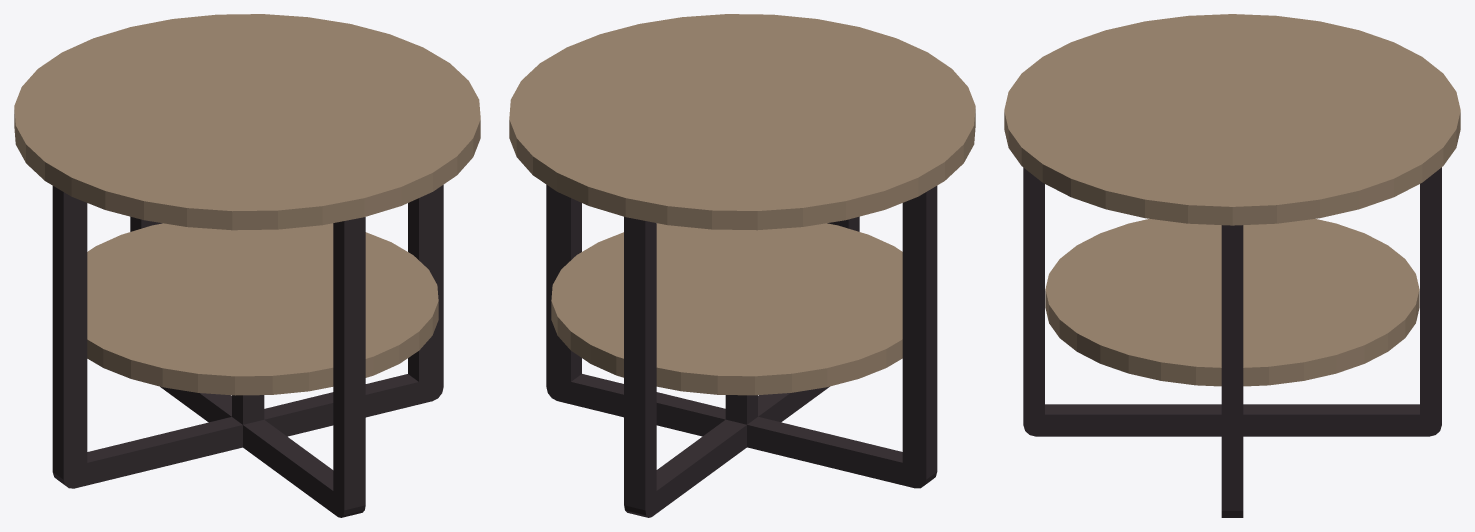
The model's file is SmallTable.fbx.
The picture shows the model from 3 angles, left to right: view 1: azimuth 30°, elevation 25°; view 2: azimuth 150°, elevation 25°; view 3: azimuth 270°, elevation 25°; orthographic projection. The views are drawn at different scales.
Parts seen in each view (by area): view 1: Circle, Circle.001, Cube; view 2: Circle, Circle.001, Cube; view 3: Circle, Circle.001, Cube.
Part boxes in pixels (box(x1,y1,x2,y2)): Circle: box(14, 14, 480, 230); Circle.001: box(87, 223, 438, 395); Cube: box(52, 185, 443, 517); Circle: box(509, 14, 975, 230); Circle.001: box(551, 223, 902, 395); Cube: box(546, 184, 937, 517); Circle: box(1004, 14, 1460, 225); Circle.001: box(1045, 219, 1419, 386); Cube: box(1023, 167, 1441, 517).
Size of the model in its own units: 200 by 155 by 200.
